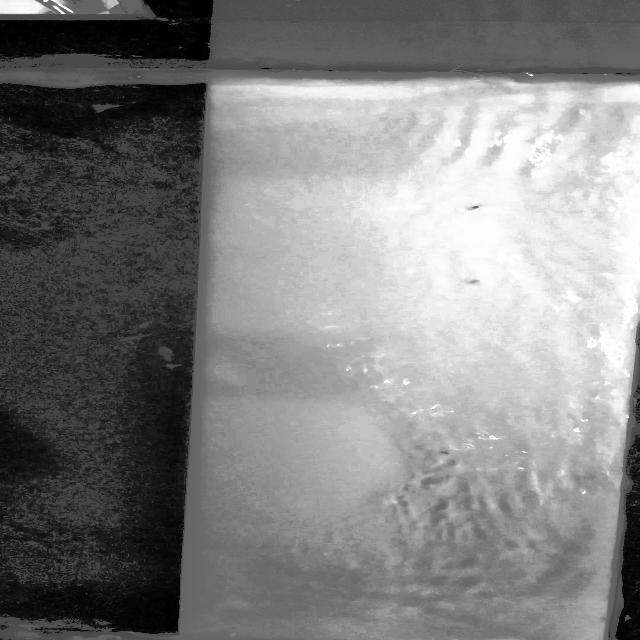shrimp: (460, 199, 492, 220), (457, 271, 497, 286)
